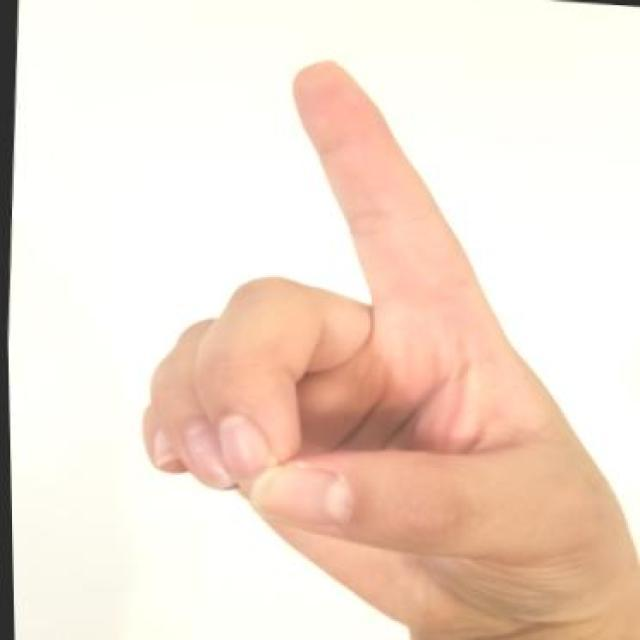D: (114, 52, 608, 640)
